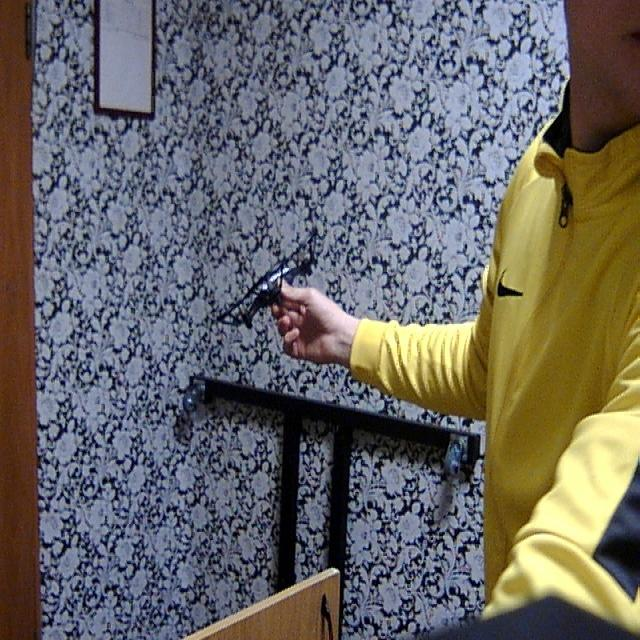drone: (200, 224, 324, 338)
